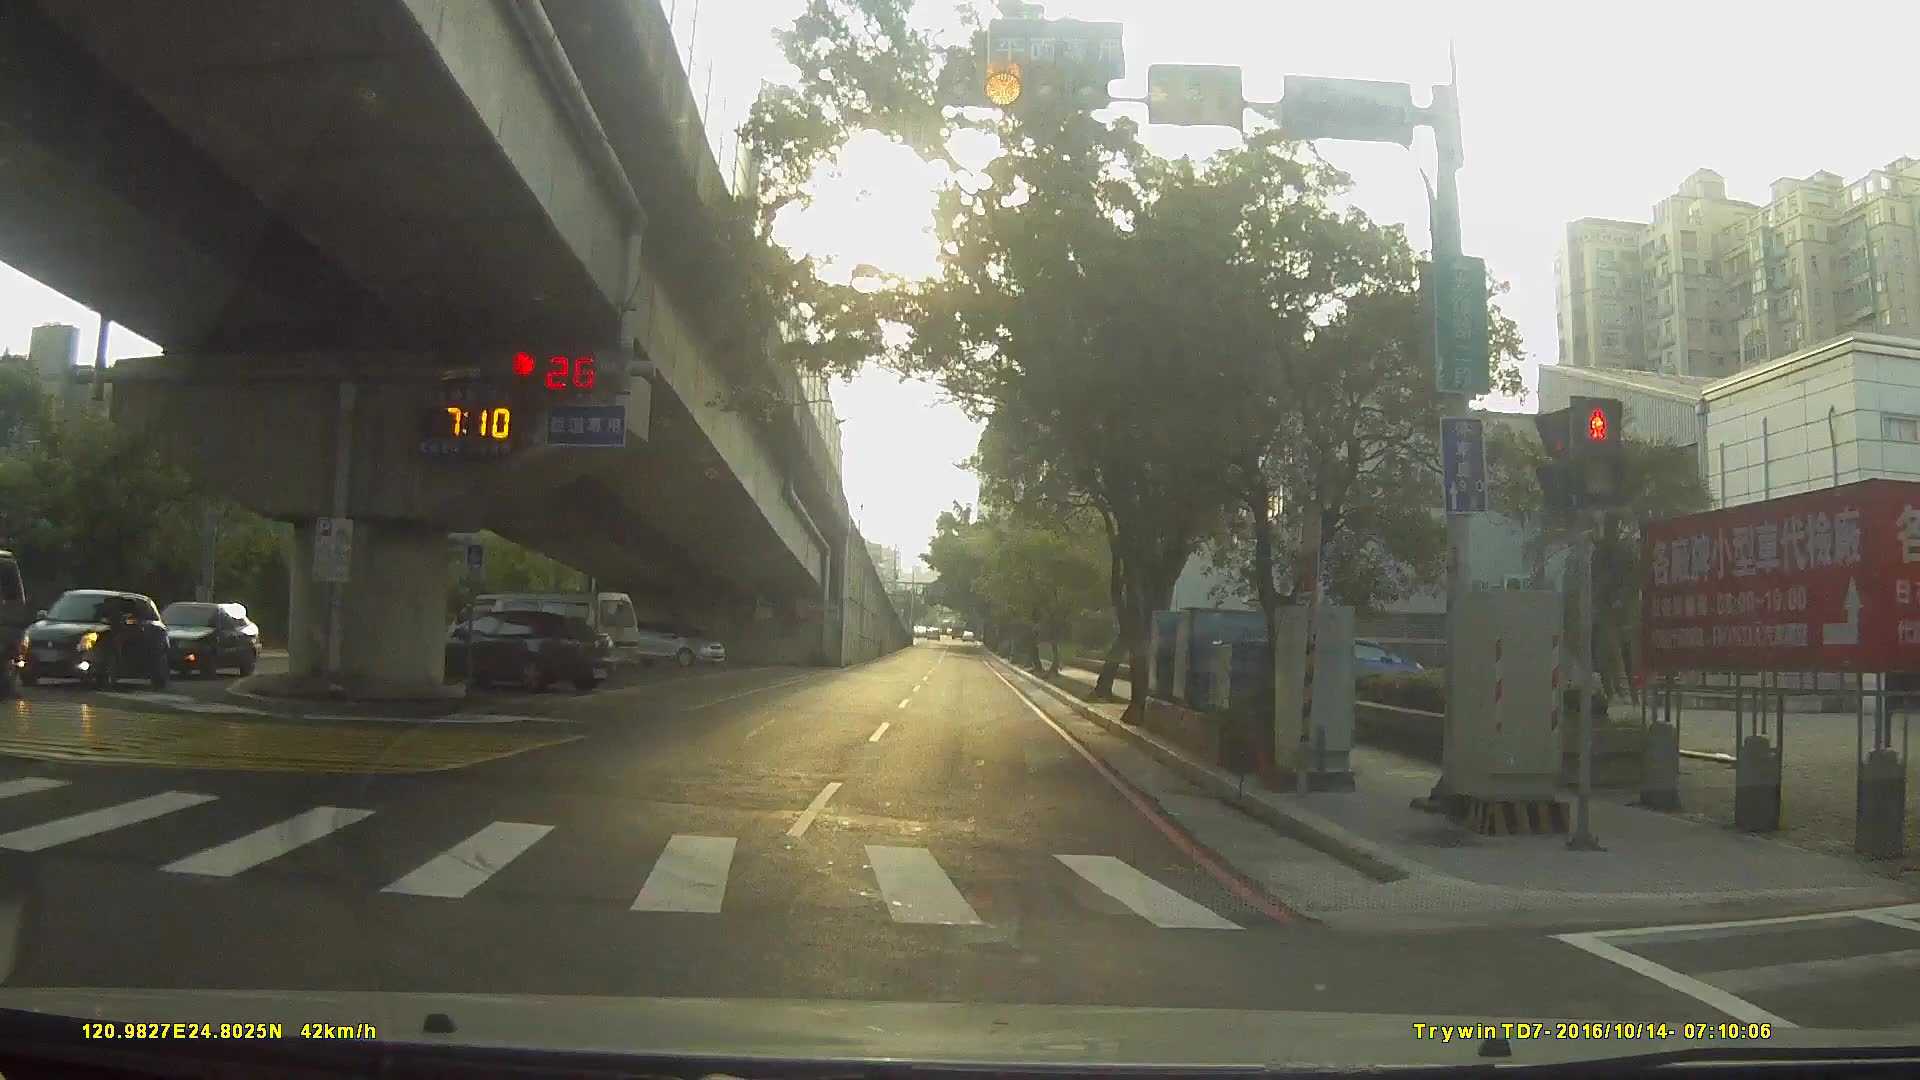vehicle: (438, 589, 634, 682), (406, 611, 607, 698), (20, 589, 177, 694), (131, 596, 272, 678), (1, 535, 44, 698), (605, 617, 724, 670)
